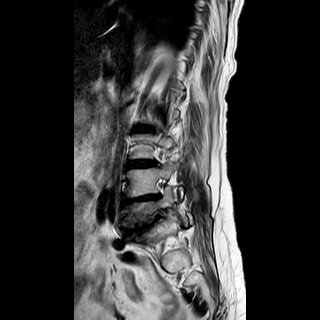RFS0: (152, 173, 171, 203)
